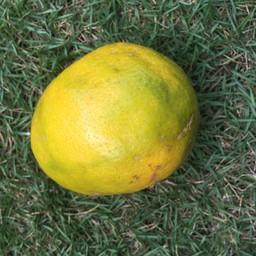Good_orange: (26, 34, 202, 197)
